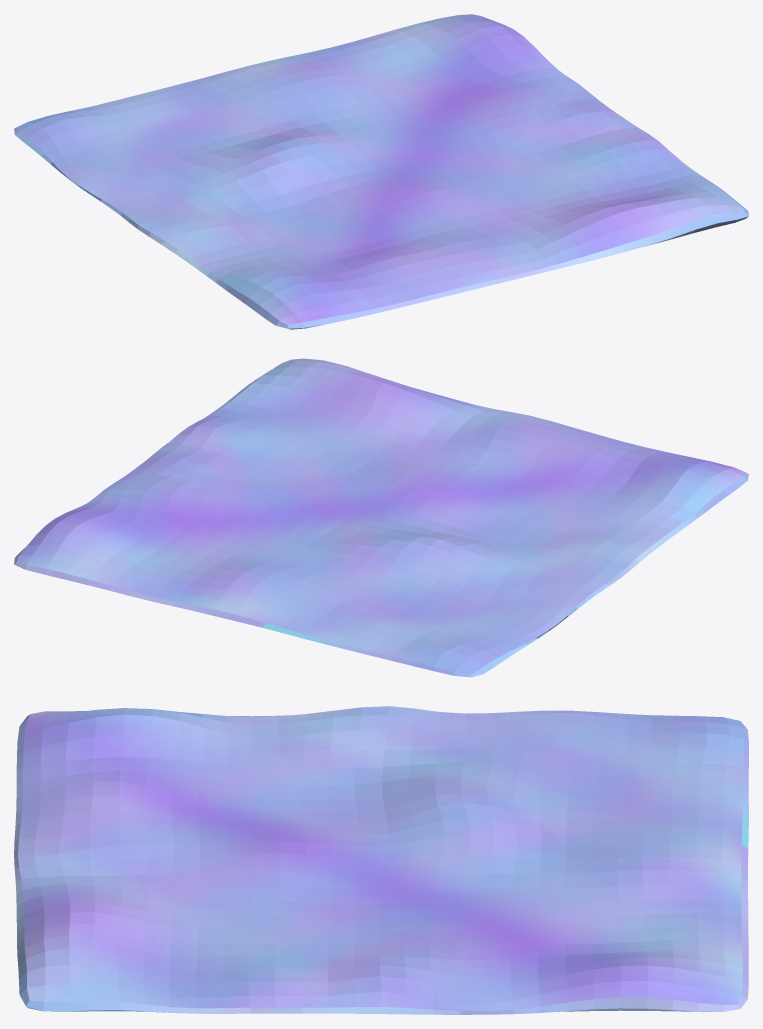
Rendered from floor.glb.
The picture shows the model from 3 angles, top to bottom: view 1: azimuth 30°, elevation 25°; view 2: azimuth 150°, elevation 25°; view 3: azimuth 270°, elevation 25°; orthographic projection. The views are drawn at different scales.
Visible parts, largest first — view 1: suelo; view 2: suelo; view 3: suelo.
Part boxes in pixels (x1=…): suelo: x1=14, y1=14, x2=748, y2=329; suelo: x1=14, y1=358, x2=748, y2=677; suelo: x1=14, y1=706, x2=748, y2=1014.
Size of the model in its own units: 24.1 by 1.15 by 24.68.
Materials: 1 (1 with a texture image).
